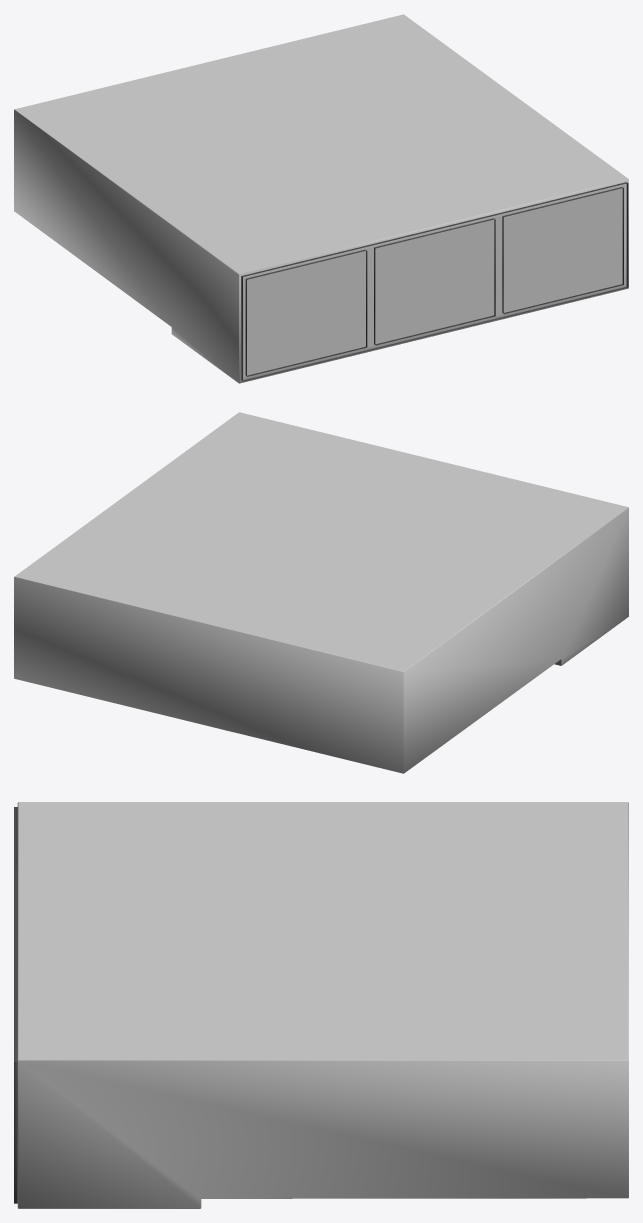
File: roomV1.fbx
The picture shows the model from 3 angles, top to bottom: view 1: azimuth 30°, elevation 25°; view 2: azimuth 150°, elevation 25°; view 3: azimuth 270°, elevation 25°; orthographic projection. The views are drawn at different scales.
Visible parts, largest first — view 1: Celiing, WindowGlass, Walls, WindowFrame; view 2: Celiing, Walls; view 3: Celiing, Walls, WindowFrame.
Part boxes in pixels (x1=…): Celiing: x1=15, y1=14, x2=628, y2=273; WindowGlass: x1=244, y1=186, x2=623, y2=376; Walls: x1=14, y1=109, x2=628, y2=383; WindowFrame: x1=241, y1=182, x2=628, y2=381; Celiing: x1=14, y1=412, x2=628, y2=671; Walls: x1=14, y1=507, x2=628, y2=773; Celiing: x1=18, y1=802, x2=628, y2=1059; Walls: x1=17, y1=802, x2=628, y2=1208; WindowFrame: x1=14, y1=807, x2=17, y2=1203.
Size of the model in its own units: 1600 by 430 by 1610.
